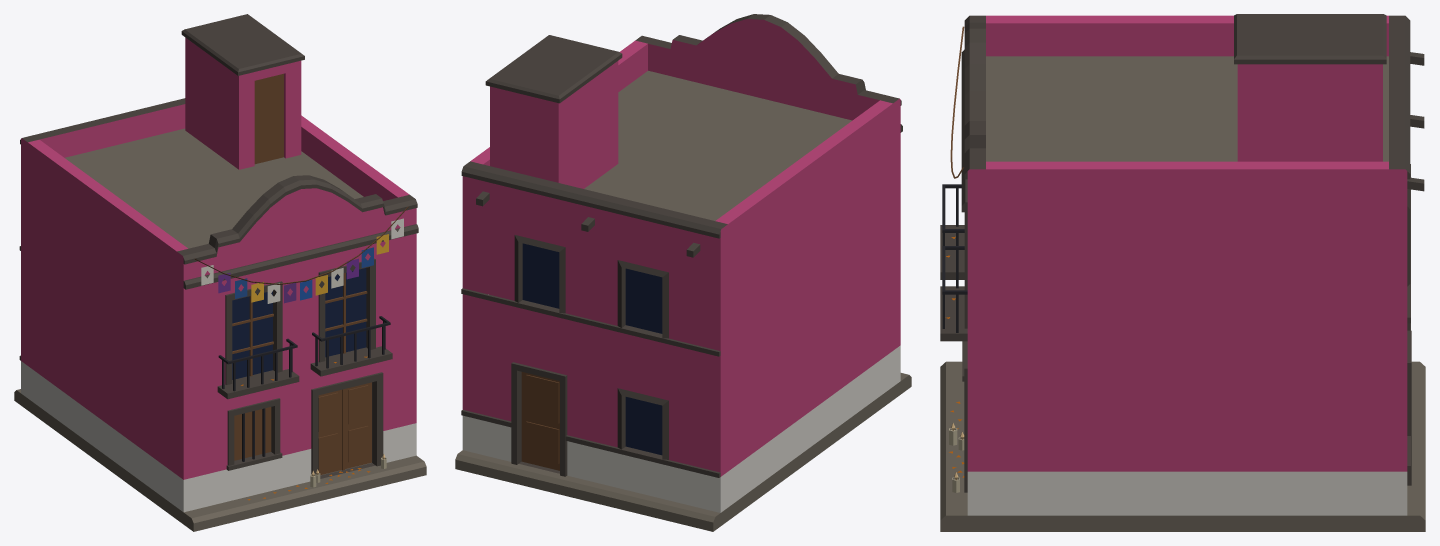
The model's file is colonial-house-d6f8fd.glb.
3 views of the same model, side by side, from view 1: azimuth 30°, elevation 25°; view 2: azimuth 150°, elevation 25°; view 3: azimuth 270°, elevation 25° (orthographic). The views are drawn at different scales.
Visible parts, largest first — view 1: colonial-house-d6f8fd; view 2: colonial-house-d6f8fd; view 3: colonial-house-d6f8fd.
Boxes of the visible parts, x1,y1,x2,y2 form: colonial-house-d6f8fd: (14, 14, 426, 531); colonial-house-d6f8fd: (455, 14, 911, 531); colonial-house-d6f8fd: (940, 14, 1425, 531).
Size of the model in its own units: 6 by 8.49 by 8.
